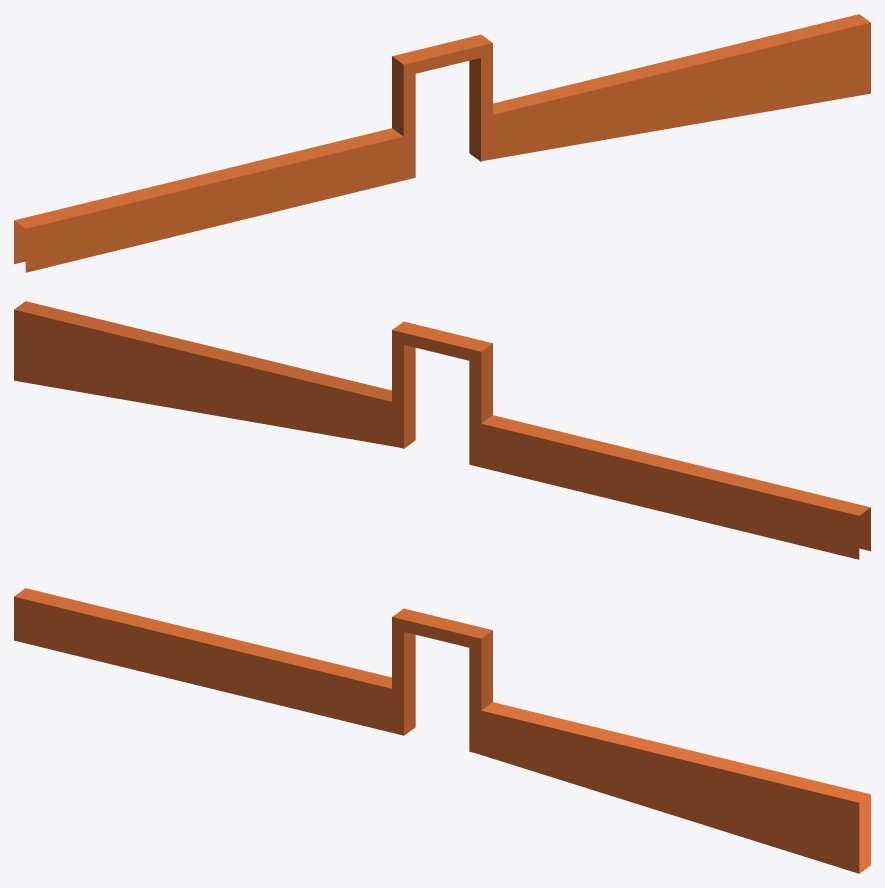
The model's file is WallSmall_02.fbx.
The picture shows the model from 3 angles, top to bottom: view 1: azimuth 30°, elevation 25°; view 2: azimuth 150°, elevation 25°; view 3: azimuth 330°, elevation 25°; orthographic projection.
Visible parts, largest first — view 1: Wall_Small_02; view 2: Wall_Small_02; view 3: Wall_Small_02.
Boxes of the visible parts, left/top/right/bottom form: Wall_Small_02: left=14, top=14, right=870, bottom=272; Wall_Small_02: left=14, top=301, right=870, bottom=559; Wall_Small_02: left=14, top=588, right=870, bottom=873.
Bounding box in the file's own units: 1680 × 271 × 40.
